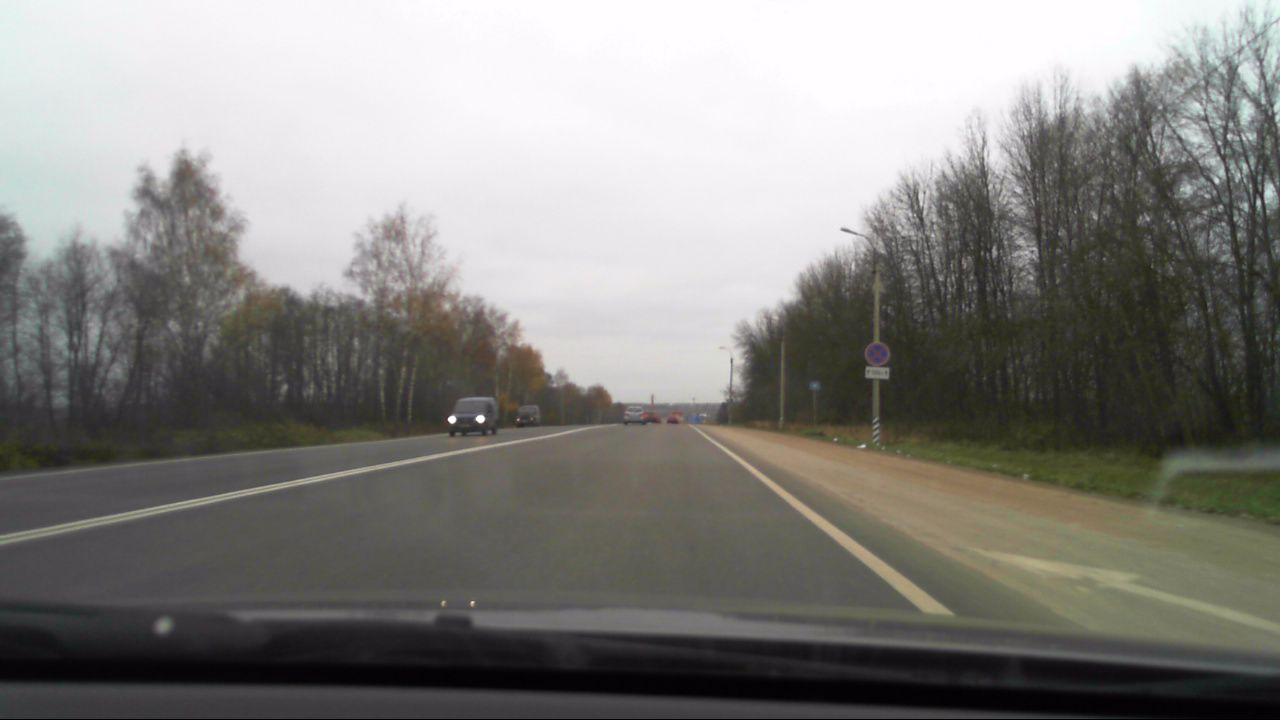No Parking: (862, 340, 889, 365)
